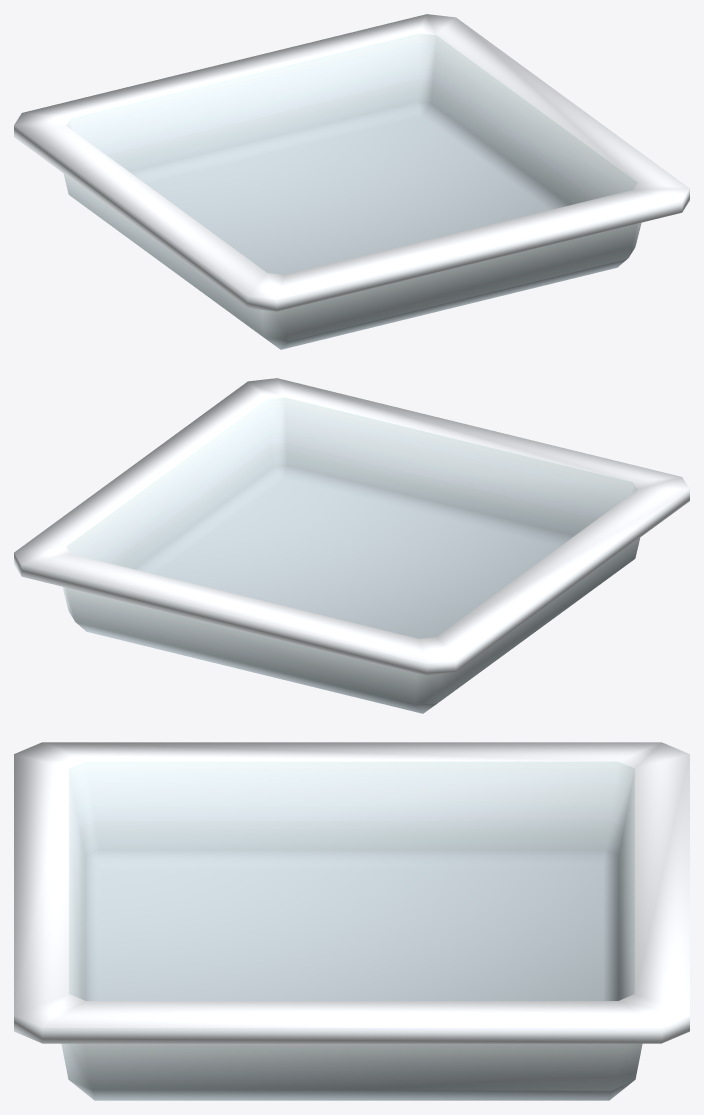
File: Box_Plastic_White_Small_002.gltf
3 renders of one model, top to bottom at view 1: azimuth 30°, elevation 25°; view 2: azimuth 150°, elevation 25°; view 3: azimuth 270°, elevation 25°, orthographic. The views are drawn at different scales.
Parts seen in each view (by area): view 1: Box_Plastic_White_Small_002_x; view 2: Box_Plastic_White_Small_002_x; view 3: Box_Plastic_White_Small_002_x.
Boxes of the visible parts, bbox=[...] form: Box_Plastic_White_Small_002_x: bbox=[14, 14, 689, 349]; Box_Plastic_White_Small_002_x: bbox=[14, 378, 689, 713]; Box_Plastic_White_Small_002_x: bbox=[14, 742, 689, 1100].
Size of the model in its own units: 2 by 0.3615 by 2.
Materials: 1 (1 with a texture image).
